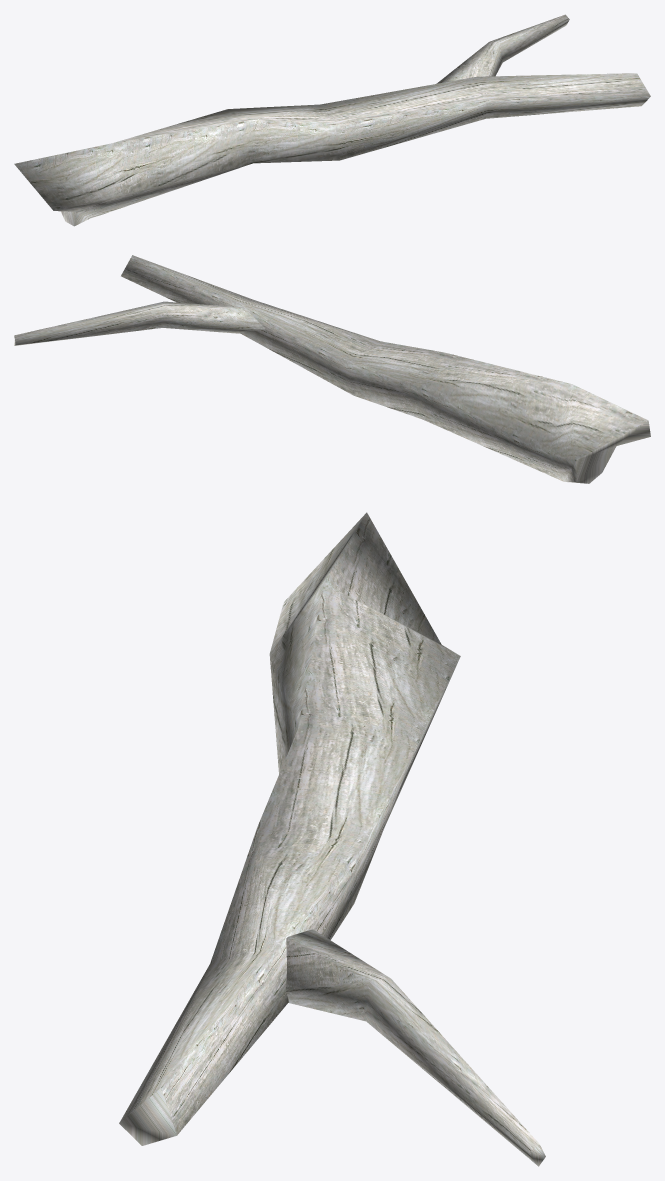
File: shor_driftwood_a2_l1.fbx
The picture shows the model from 3 angles, top to bottom: view 1: azimuth 30°, elevation 25°; view 2: azimuth 150°, elevation 25°; view 3: azimuth 270°, elevation 25°; orthographic projection. The views are drawn at different scales.
Parts seen in each view (by area): view 1: mesh_node; view 2: mesh_node; view 3: mesh_node.
Boxes of the visible parts, x1=… form: mesh_node: x1=14, y1=14, x2=650, y2=226; mesh_node: x1=14, y1=255, x2=650, y2=483; mesh_node: x1=119, y1=512, x2=545, y2=1166.
Bounding box in the file's own units: 2.77 × 0.3786 × 0.8643.
